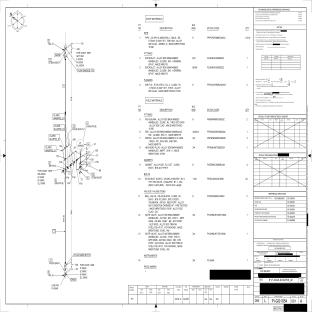flange: (64, 55, 67, 60), (64, 262, 67, 267)
valve: (63, 49, 67, 57), (64, 266, 68, 274)
